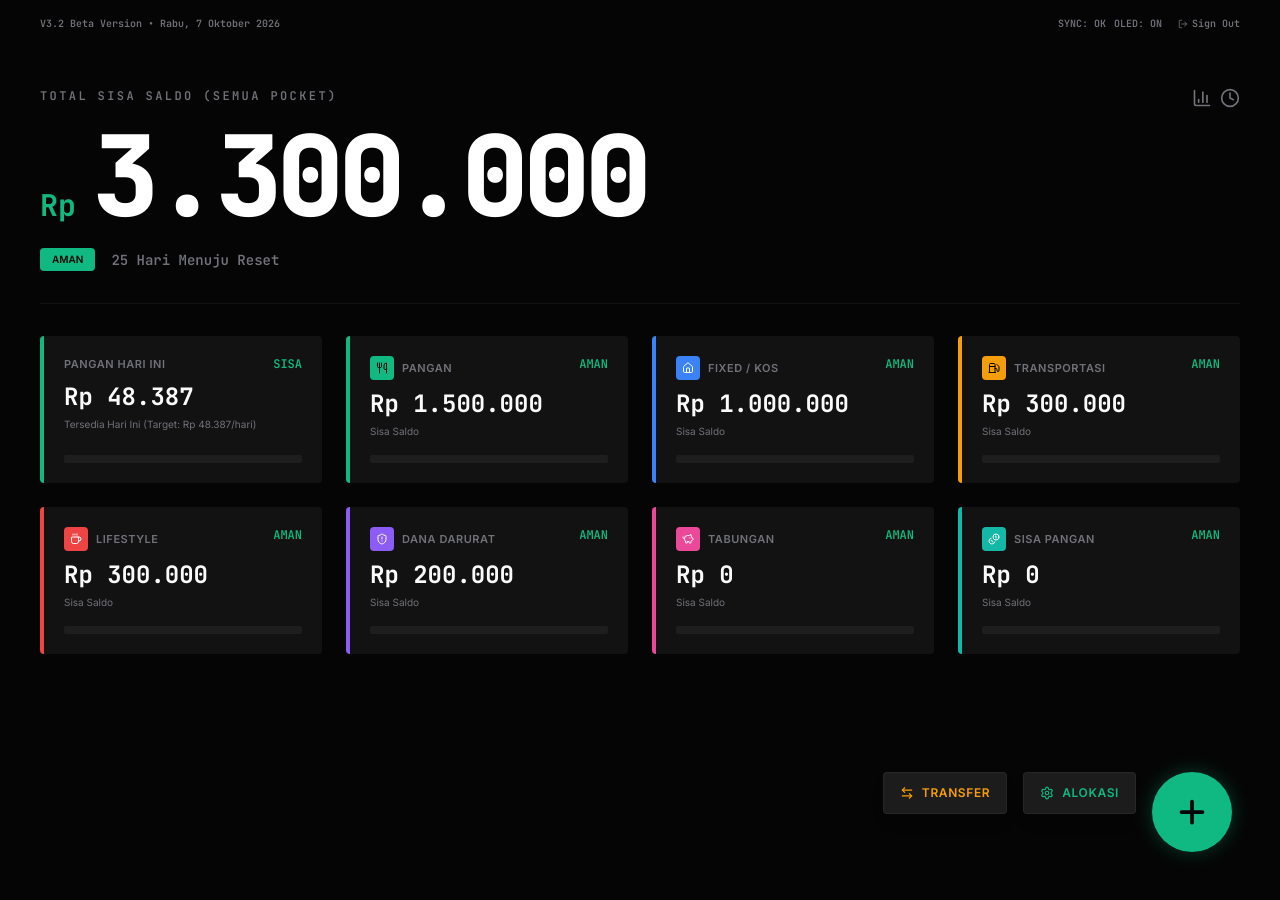
Scenario: User Flow & Experience › Empty states › shows appropriate message when no transactions exist
Click the button named "Tampilkan Riwayat" at (1230, 98), box top-left (1220, 88), bottom-right (1240, 108)
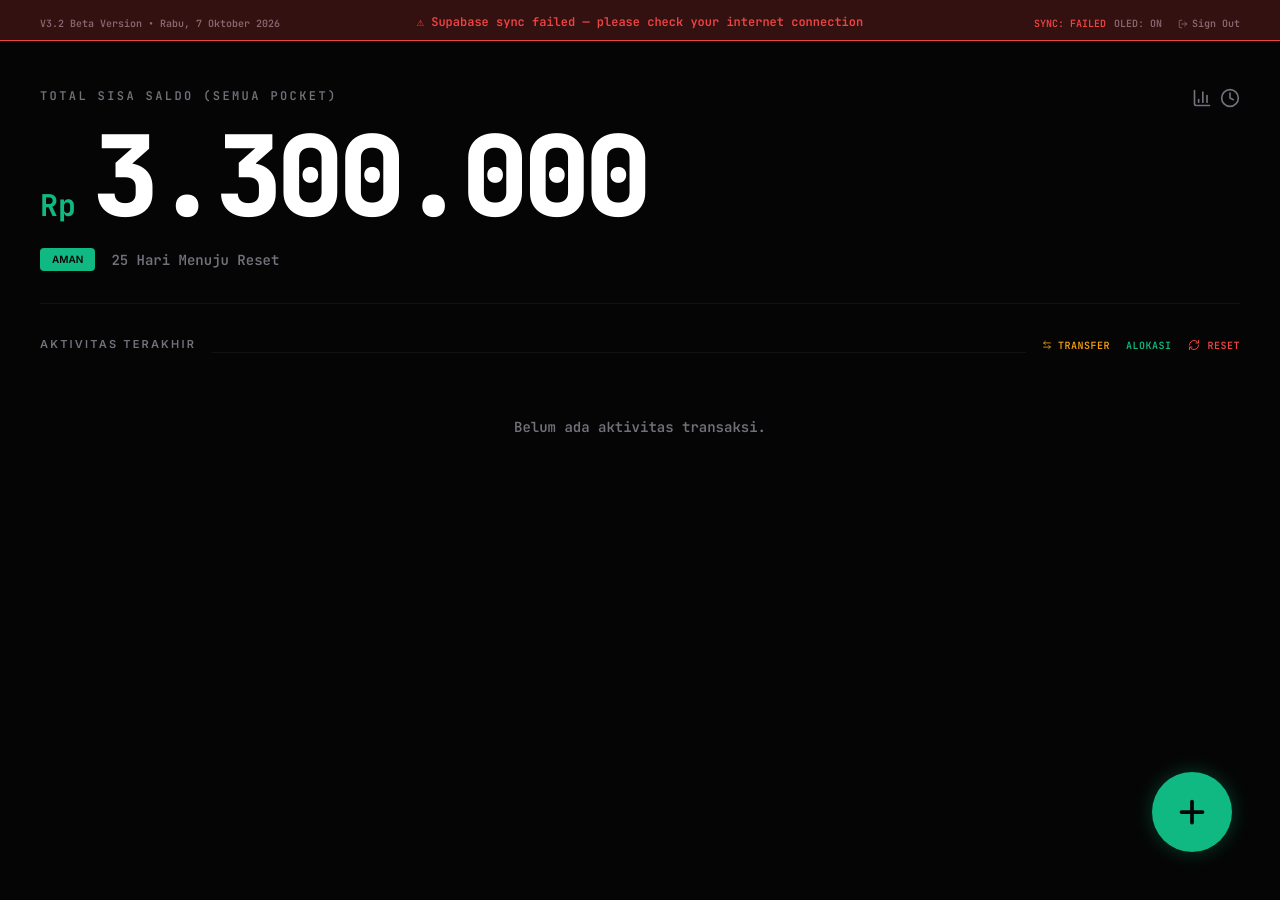
Check: the text "Belum ada aktivitas transaksi" is shown, box top-left (514, 418), bottom-right (766, 436)
